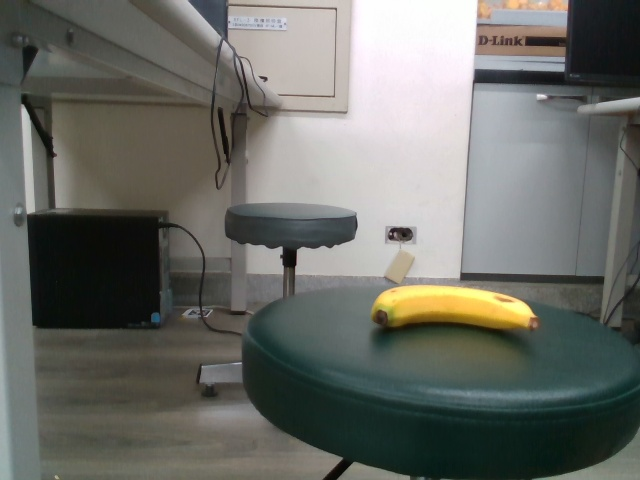banana: (370, 281, 541, 342)
